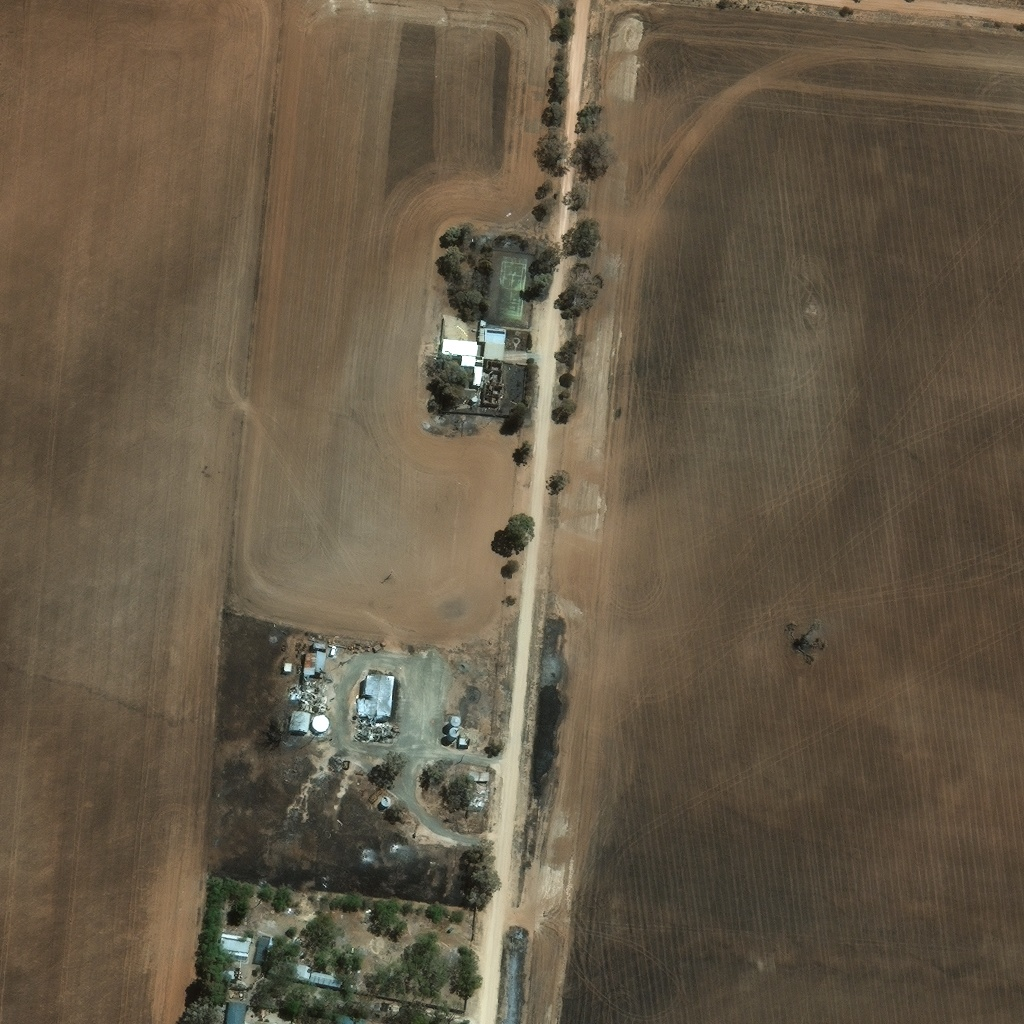0 no-damage: (269, 956, 350, 989), (442, 337, 479, 365), (218, 931, 252, 958), (484, 327, 507, 359), (253, 934, 273, 964), (289, 711, 311, 732), (225, 1002, 246, 1023), (312, 714, 330, 734), (448, 718, 462, 739), (381, 798, 392, 807), (283, 664, 292, 672), (460, 736, 468, 745)
1 minor-damage: (364, 677, 397, 719)
2 major-damage: (219, 968, 239, 981)
3 destroyed: (289, 651, 326, 710), (474, 359, 505, 405), (469, 771, 489, 803), (360, 723, 390, 739), (544, 688, 564, 710), (313, 641, 326, 650), (550, 713, 557, 719)
4 un-classified: (339, 1014, 356, 1023), (273, 606, 283, 616), (416, 762, 425, 772), (263, 605, 272, 614)
